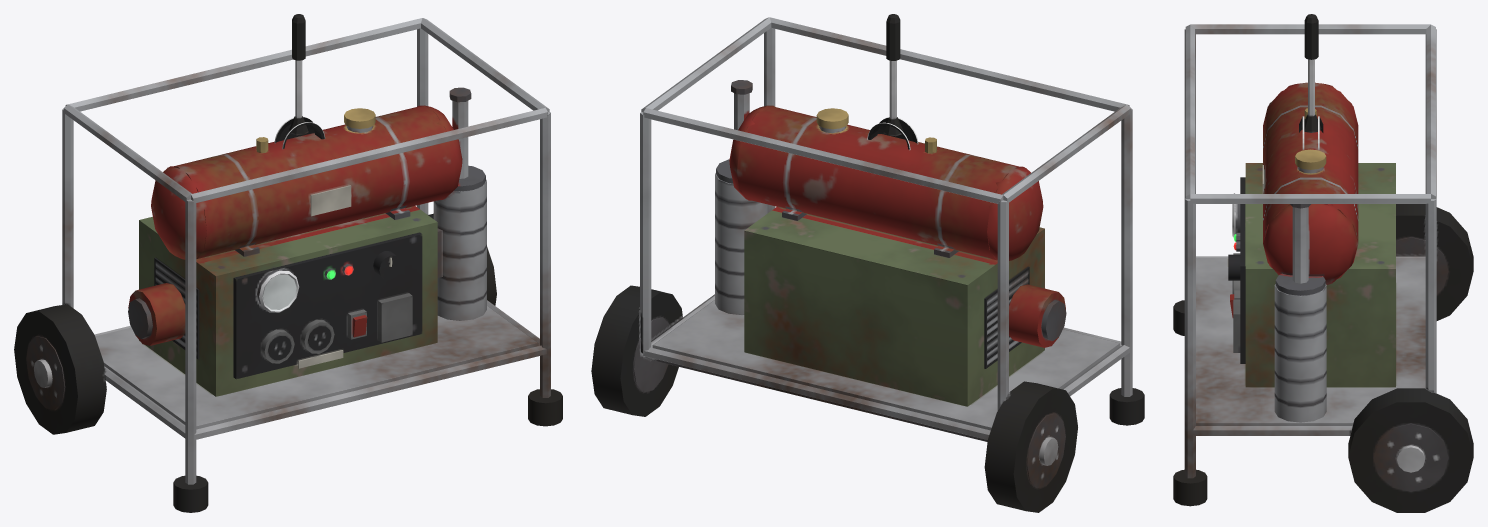
The model's file is Generator.fbx.
3 renders of one model, left to right at view 1: azimuth 30°, elevation 25°; view 2: azimuth 150°, elevation 25°; view 3: azimuth 270°, elevation 25°, orthographic. The views are drawn at different scales.
Parts seen in each view (by area): view 1: Housing.001, LeverHandle, LeverHub; view 2: Housing.001, LeverHandle, LeverHub; view 3: Housing.001, LeverHandle.
Part boxes in pixels (x1,y1,x2,y2): Housing.001: (14,18,562,512); LeverHandle: (289,14,308,135); LeverHub: (274,116,325,149); Housing.001: (591,17,1144,512); LeverHandle: (883,14,903,136); LeverHub: (867,117,918,150); Housing.001: (1173,24,1473,512); LeverHandle: (1301,14,1321,132).
Size of the model in its own units: 1.29 by 1.16 by 0.7967.
